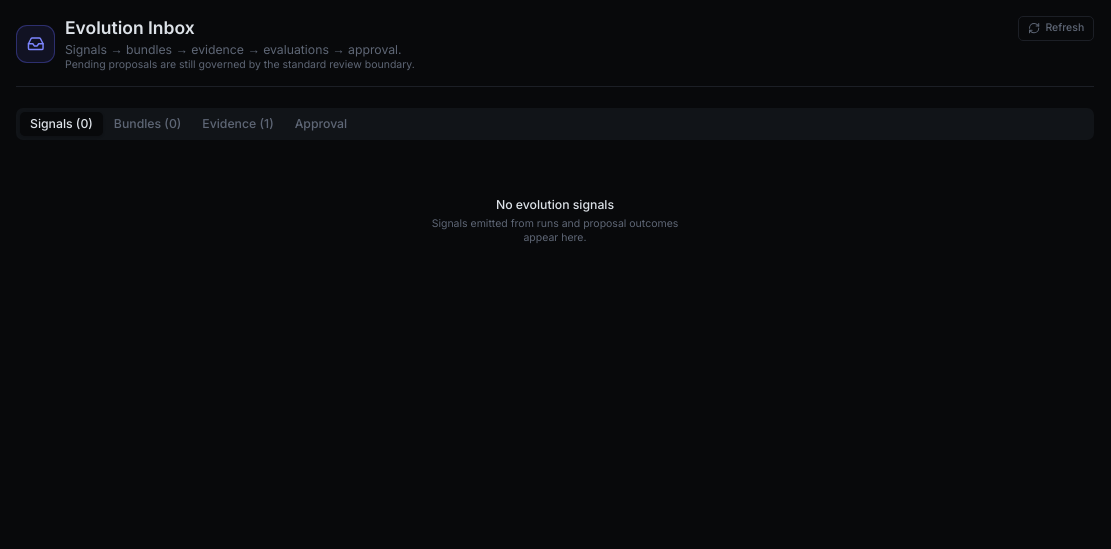
Test: EvolutionInboxPage › surfaces ordinary pending proposals as bundle evidence
This screenshot has width=1111, height=549.
Click the tab "Evidence (1)" at (238, 124), box x1=192 y1=112 x2=284 y2=136
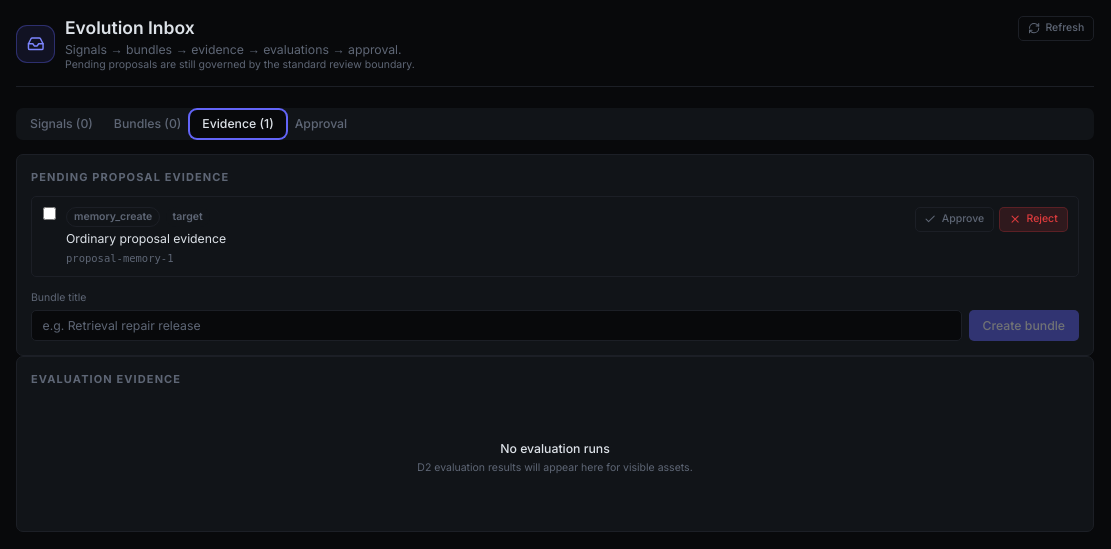
Result: the text "Ordinary proposal evidence" is shown at x1=66 y1=231 x2=226 y2=246
Result: the text "memory_create" is shown at x1=66 y1=207 x2=160 y2=226
